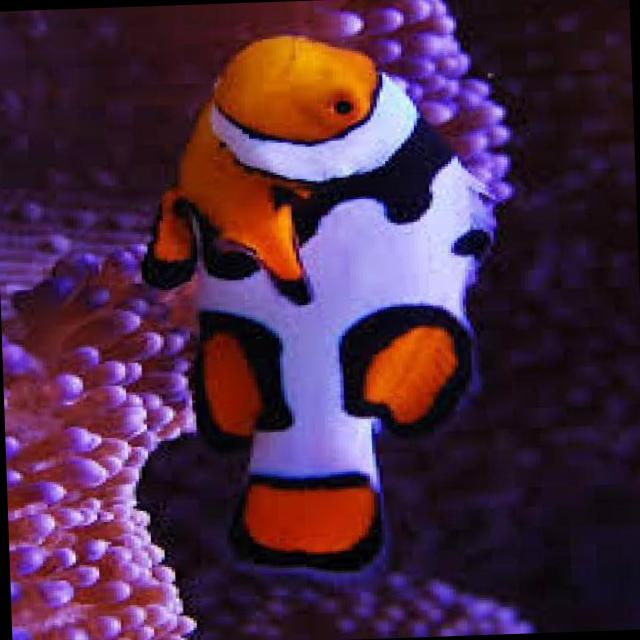ClownFish: (131, 28, 490, 568)
